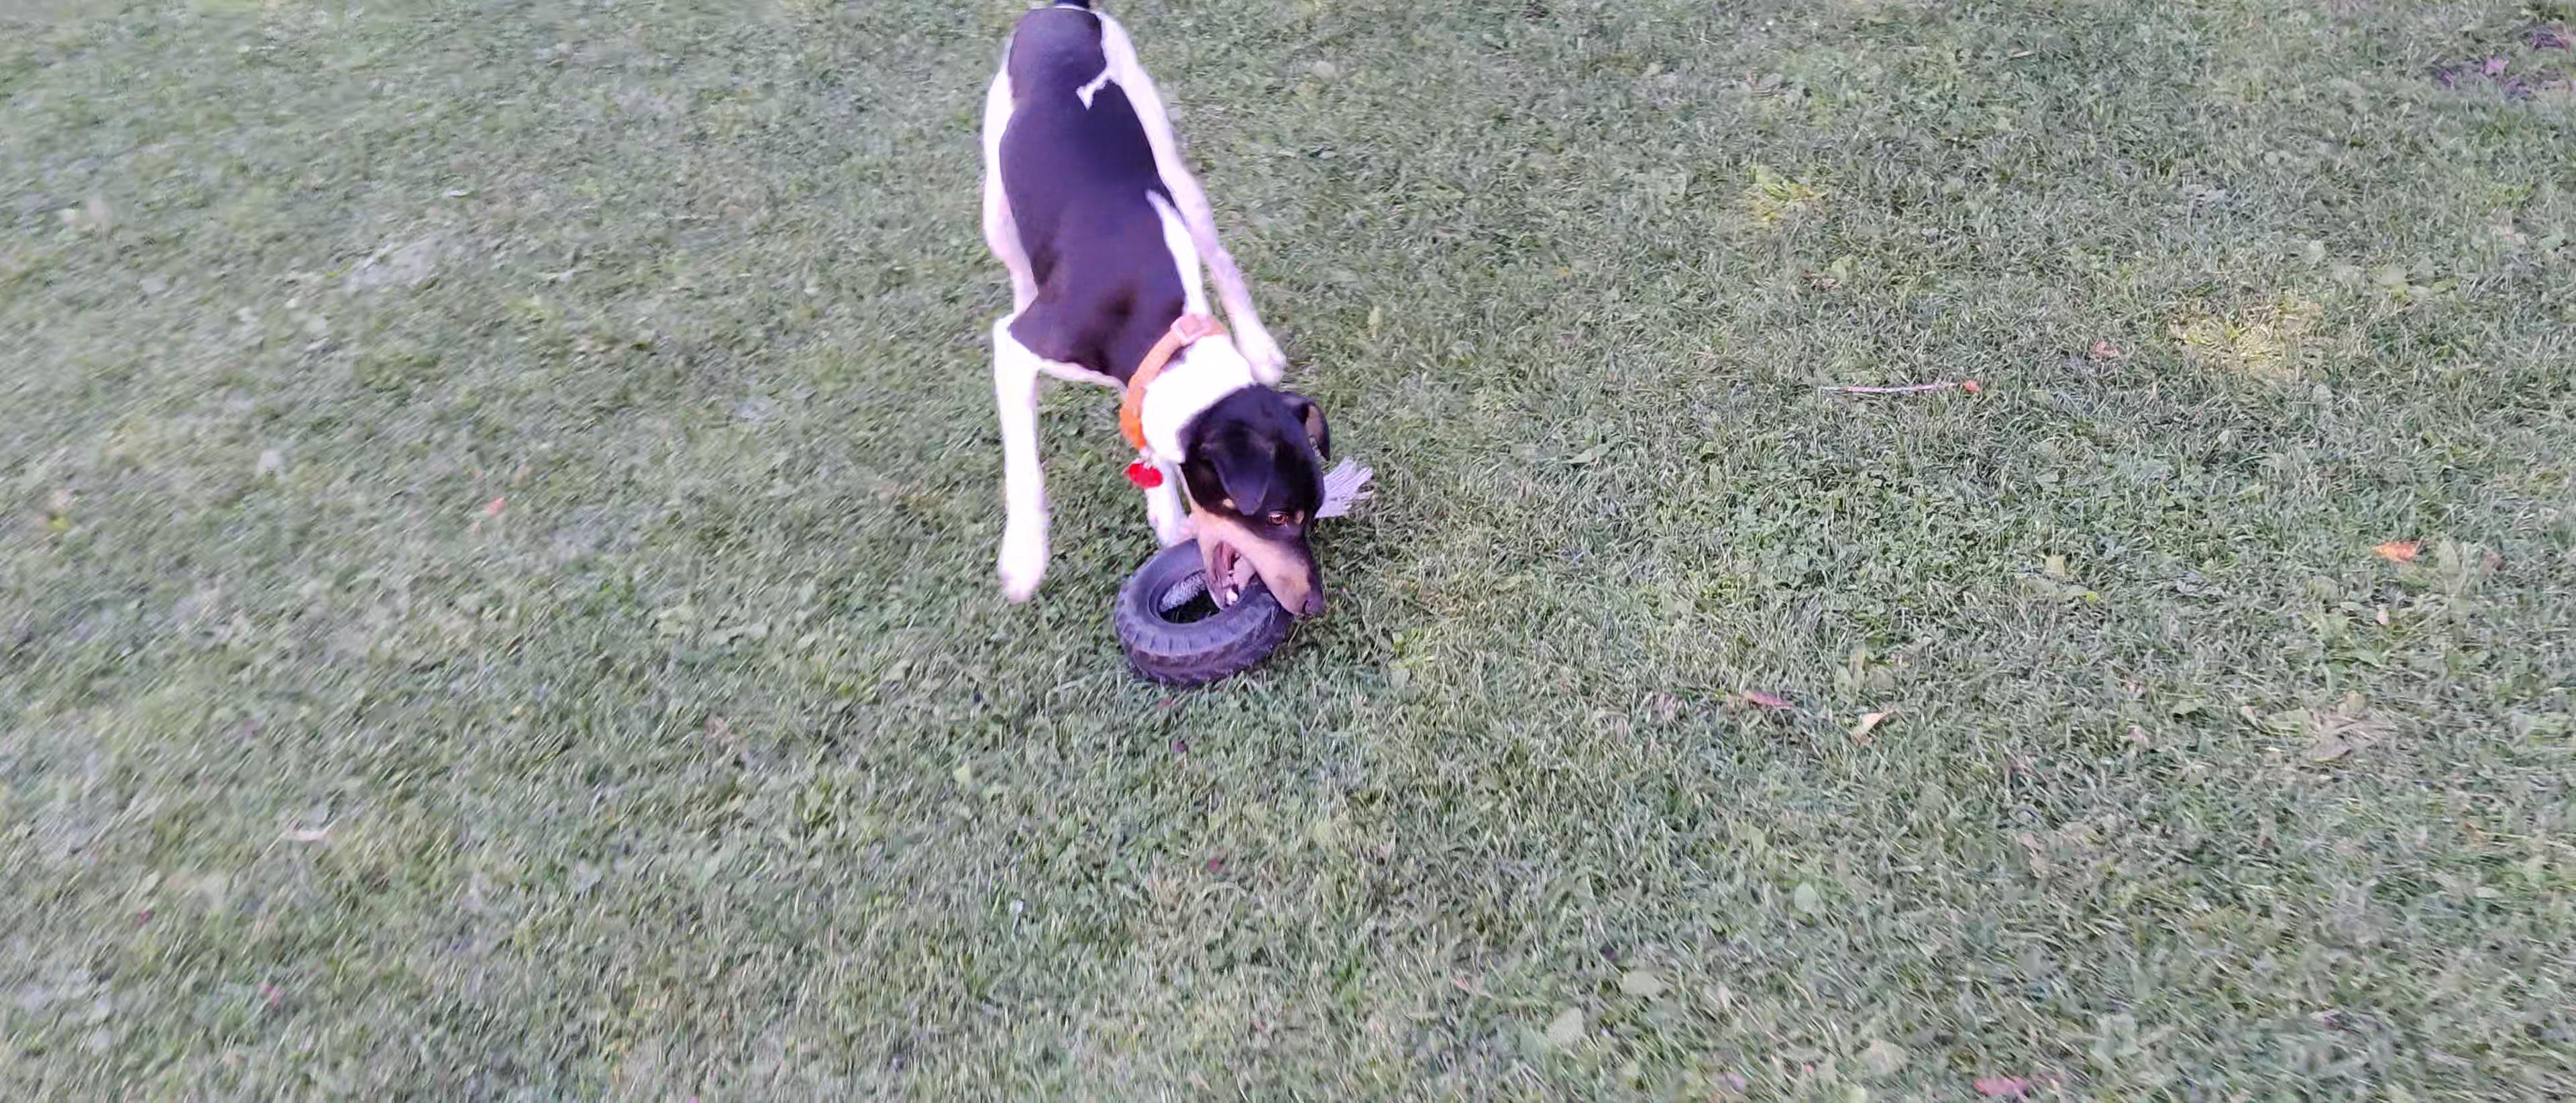Dog: (969, 0, 1342, 633)
